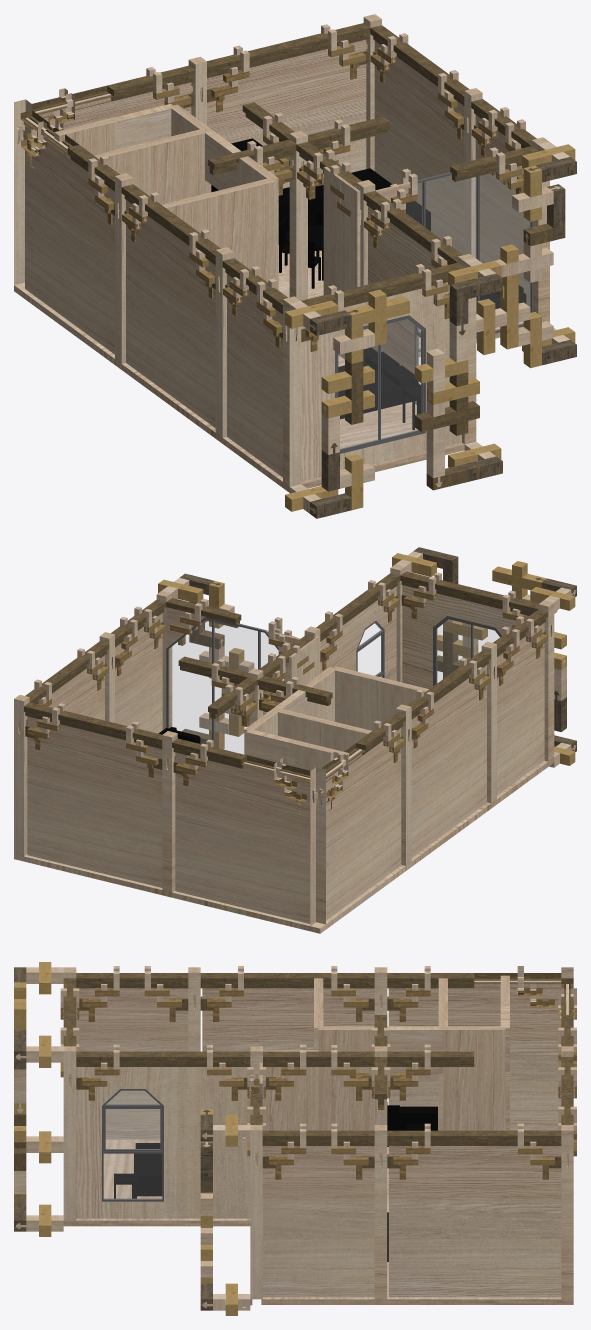
The model's file is studio-b.glb.
3 views of the same model, one above another, from view 1: azimuth 30°, elevation 25°; view 2: azimuth 150°, elevation 25°; view 3: azimuth 270°, elevation 25° (orthographic). The views are drawn at different scales.
Size of the model in its own units: 6.6 by 3.4 by 9.05.
10 materials, 7 textured.
